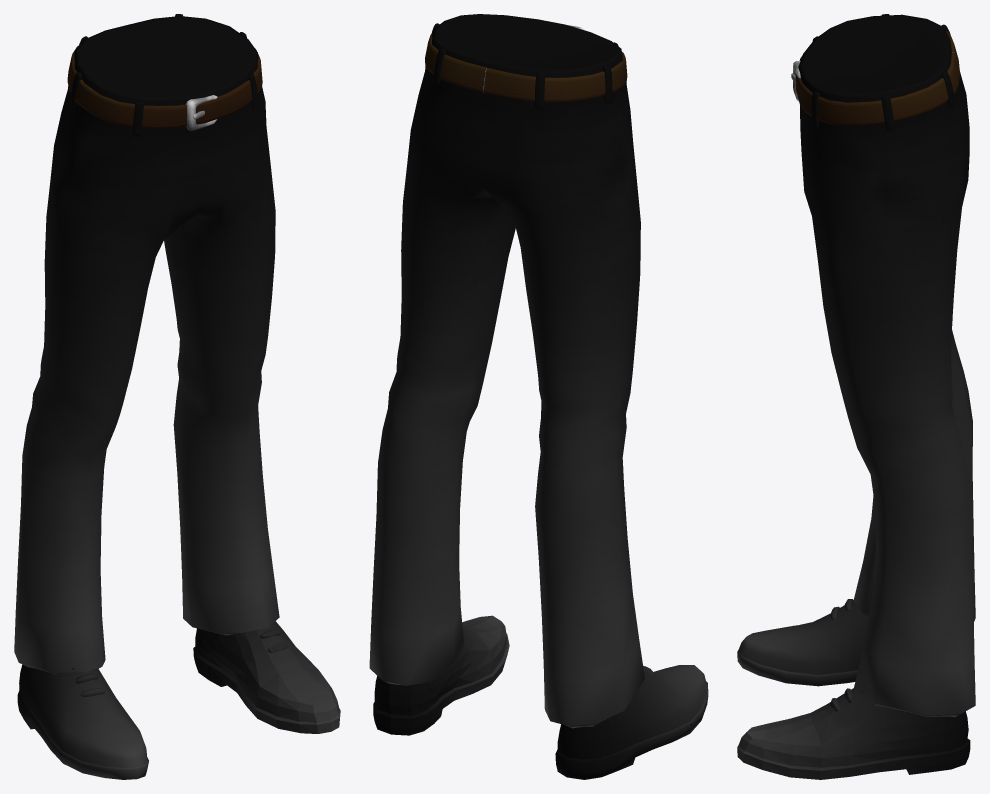
Rendered from hip.fbx.
3 renders of one model, left to right at view 1: azimuth 30°, elevation 25°; view 2: azimuth 150°, elevation 25°; view 3: azimuth 270°, elevation 25°, orthographic. The views are drawn at different scales.
Parts seen in each view (by area): view 1: hip; view 2: hip; view 3: hip.
Boxes of the visible parts, x1,y1,x2,y2 form: hip: (14, 14, 340, 779); hip: (369, 14, 708, 779); hip: (737, 14, 975, 779).
Size of the model in its own units: 28.54 by 68.57 by 22.13.
